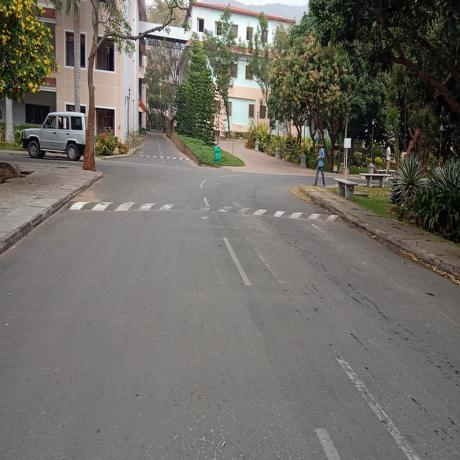Speed Bump: (67, 196, 340, 224)
